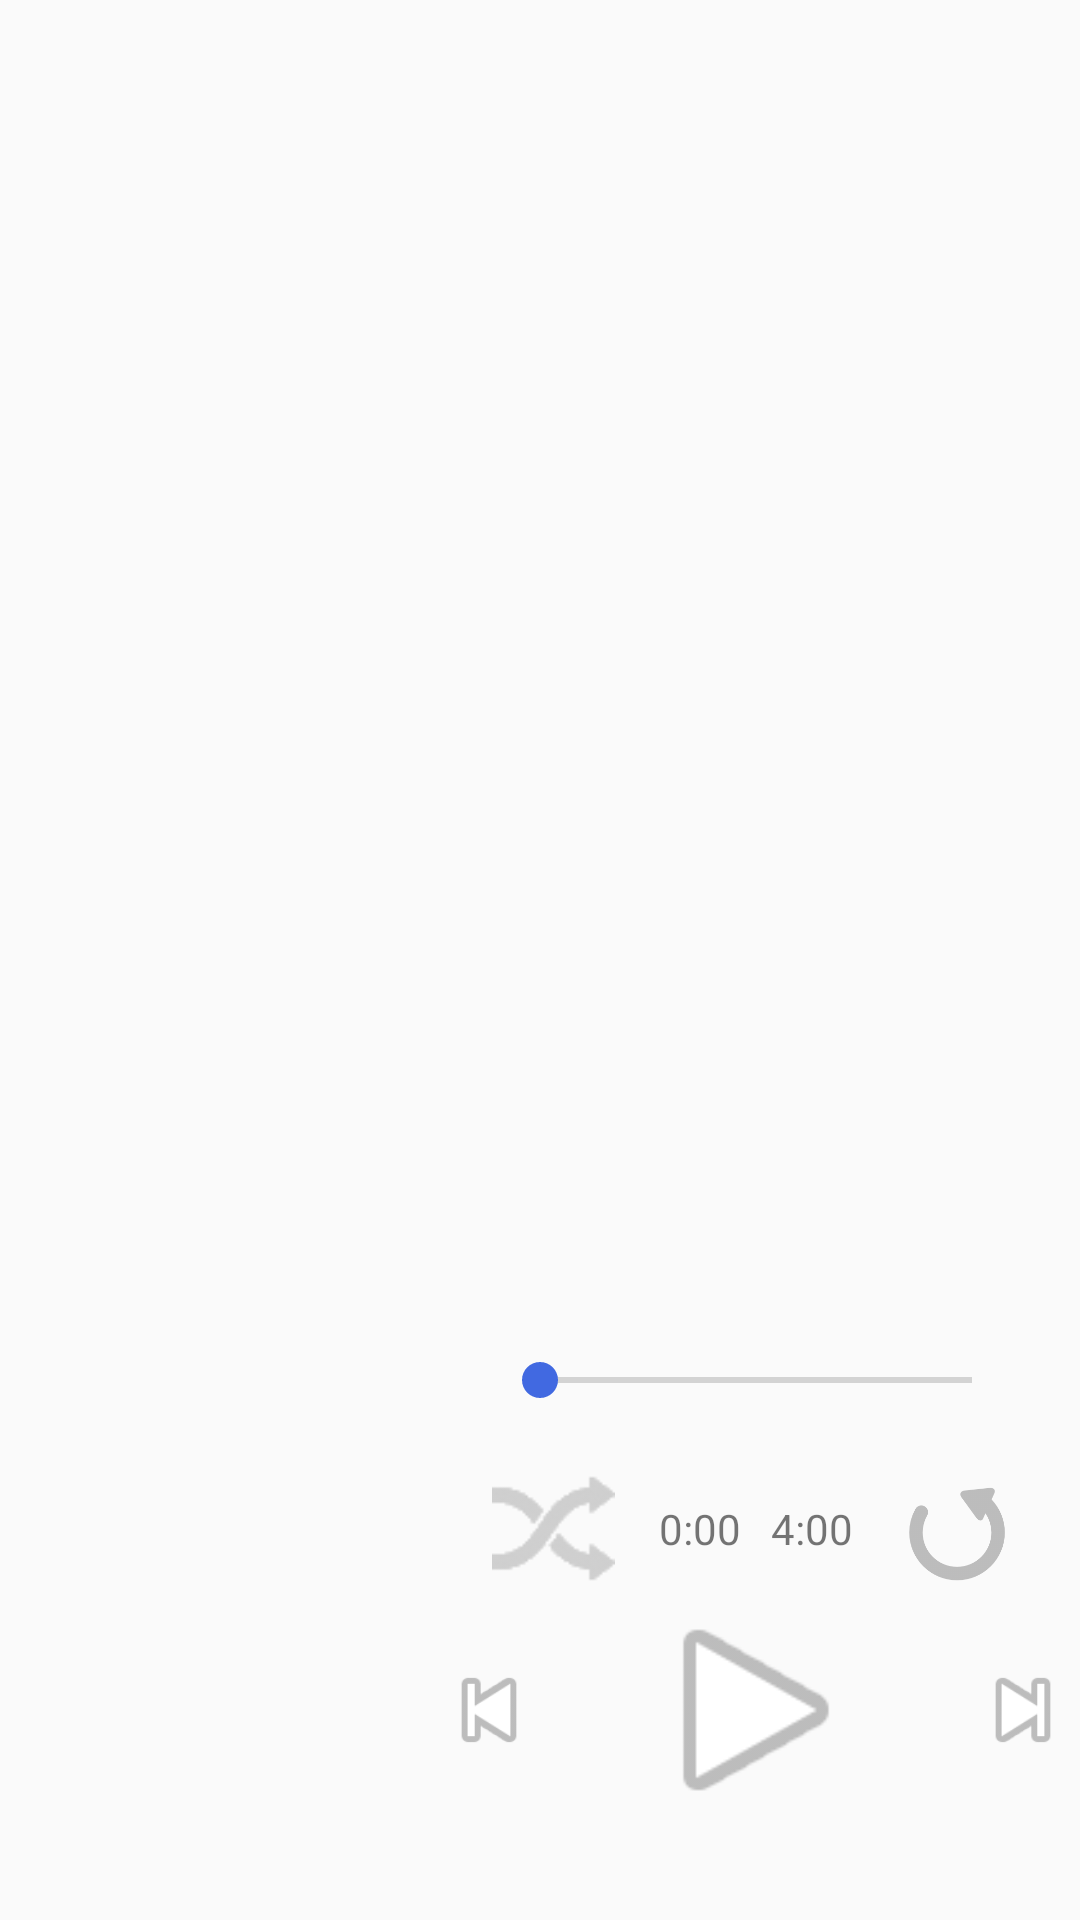

Where icons sit on this 1080 x 1920 app screen, as (x1, y1, x2, y2):
next: (996, 1678, 1050, 1742)
play: (683, 1630, 829, 1790)
previous: (462, 1678, 516, 1742)
replay off: (909, 1488, 1005, 1580)
shuffle off: (492, 1477, 615, 1580)
